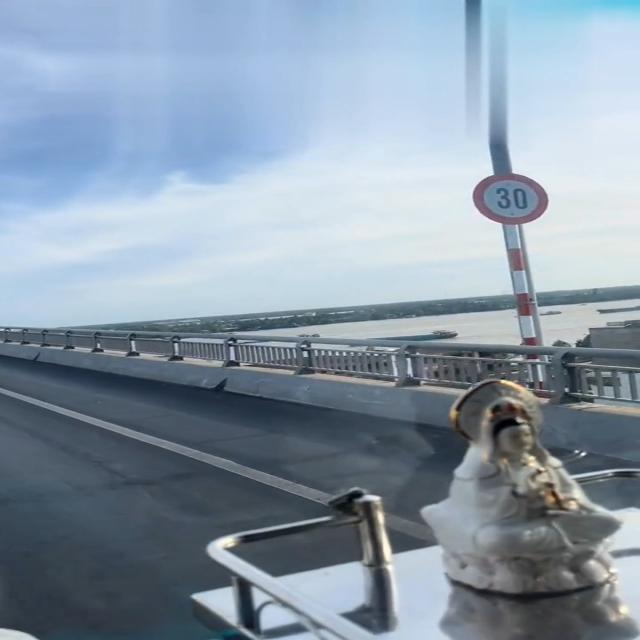127-toc-do-toi-da-30: (471, 173, 552, 226)
